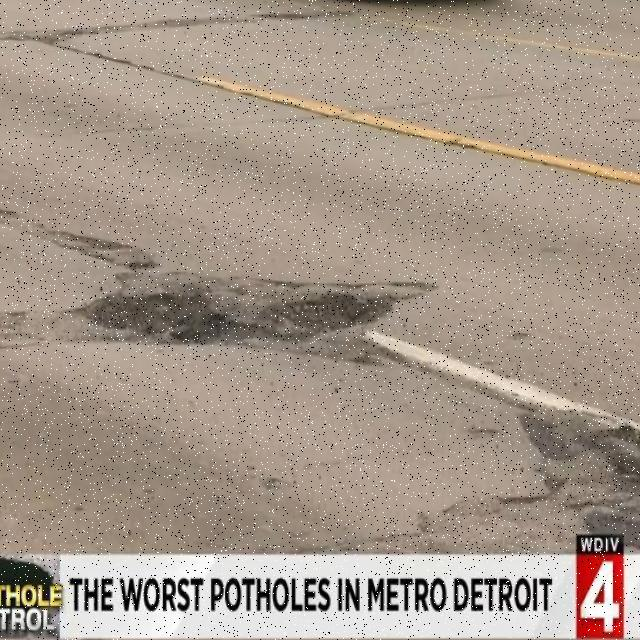pothole: (90, 273, 430, 356), (504, 409, 640, 542)
